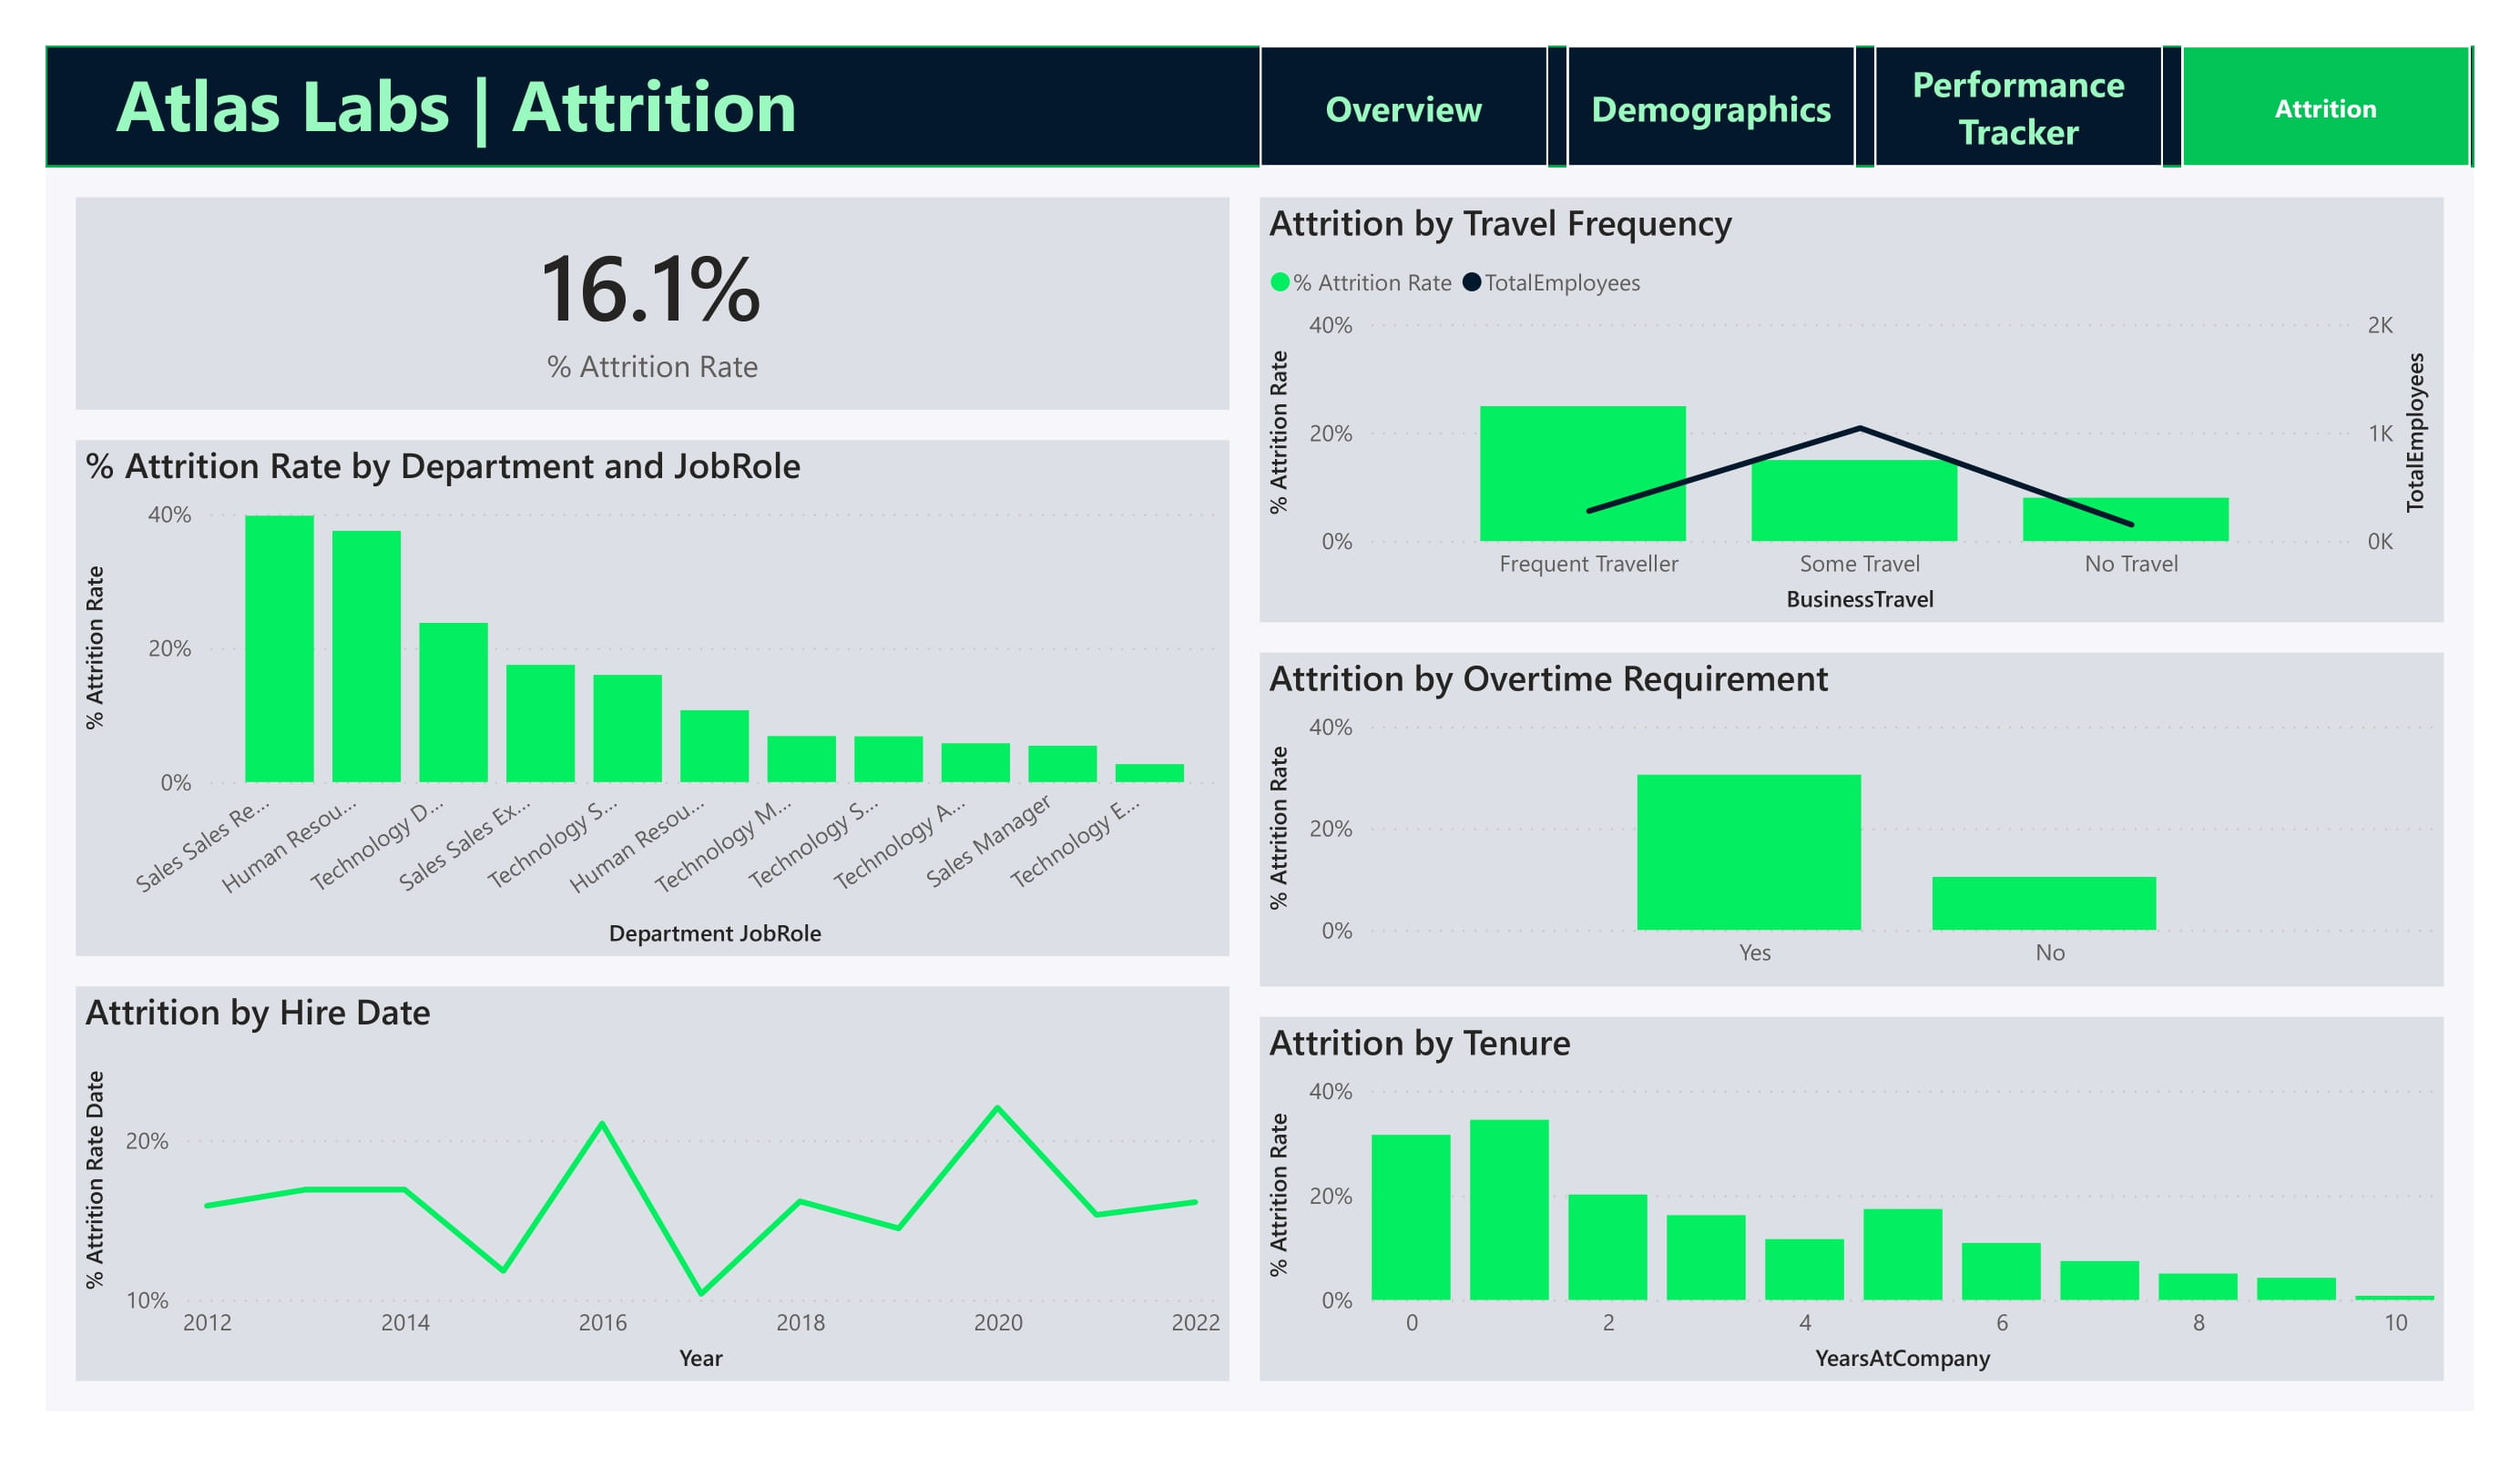

The page's visual inventory and layout, read from the dashboard file:
{"tool":"powerbi","page":{"name":"Attrition","canvas":[1280,720],"ordinal":3},"visuals":[{"type":"card","fields":{"Values":["_Measures.% Attrition Rate"]},"box":[16,80,608,112],"z":0},{"type":"columnChart","fields":{"Category":["DimEmployee.Department","DimEmployee.JobRole"],"Y":["_Measures.% Attrition Rate"]},"box":[16,208,608,272],"z":1000},{"type":"lineChart","title":"Attrition by Hire Date","fields":{"Y":["_Measures.% Attrition Rate Date"],"Category":["DimDate.Date.Variation.Date Hierarchy.Year","DimDate.Date.Variation.Date Hierarchy.Quarter","DimDate.Date.Variation.Date Hierarchy.Month","DimDate.Date.Variation.Date Hierarchy.Day"]},"box":[16,496,608,208],"z":2000},{"type":"lineStackedColumnComboChart","title":"Attrition by Travel Frequency","fields":{"Y":["_Measures.% Attrition Rate"],"Category":["DimEmployee.BusinessTravel"],"Y2":["_Measures.TotalEmployees"]},"box":[640,80,624,224],"z":3000},{"type":"columnChart","title":"Attrition by Overtime Requirement","fields":{"Category":["DimEmployee.OverTime"],"Y":["_Measures.% Attrition Rate"]},"box":[640,320,624,176],"z":4000},{"type":"columnChart","title":"Attrition by Tenure","fields":{"Category":["DimEmployee.YearsAtCompany"],"Y":["_Measures.% Attrition Rate"]},"box":[640,512,624,192],"z":5000},{"type":"shape","box":[0,0,1280,64],"z":6000},{"type":"textbox","box":[32,0,624,64],"z":7000},{"type":"pageNavigator","box":[640,0,640,64],"z":8000}]}

Visuals, with their boxes on the page's 1280x720 design canvas (x1, y1, x2, y2). These are canvas units, not pixel positions in the 2520x1457 screenshot, which may show the page scaled, cropped or inside an application window:
card - _Measures.% Attrition Rate: box(16, 80, 624, 192)
columnChart - DimEmployee.Department x DimEmployee.JobRole: box(16, 208, 624, 480)
"Attrition by Hire Date" lineChart: box(16, 496, 624, 704)
"Attrition by Travel Frequency" lineStackedColumnComboChart: box(640, 80, 1264, 304)
"Attrition by Overtime Requirement" columnChart: box(640, 320, 1264, 496)
"Attrition by Tenure" columnChart: box(640, 512, 1264, 704)
shape: box(0, 0, 1280, 64)
textbox: box(32, 0, 656, 64)
pageNavigator: box(640, 0, 1280, 64)
